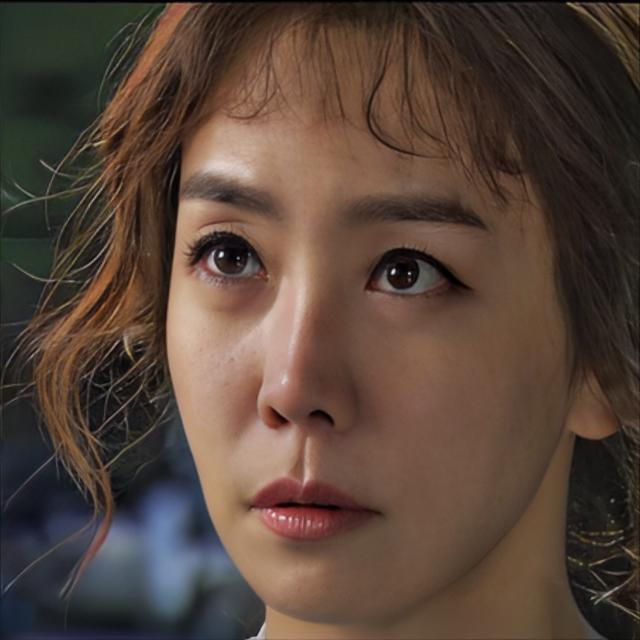sad: (163, 11, 578, 622)
